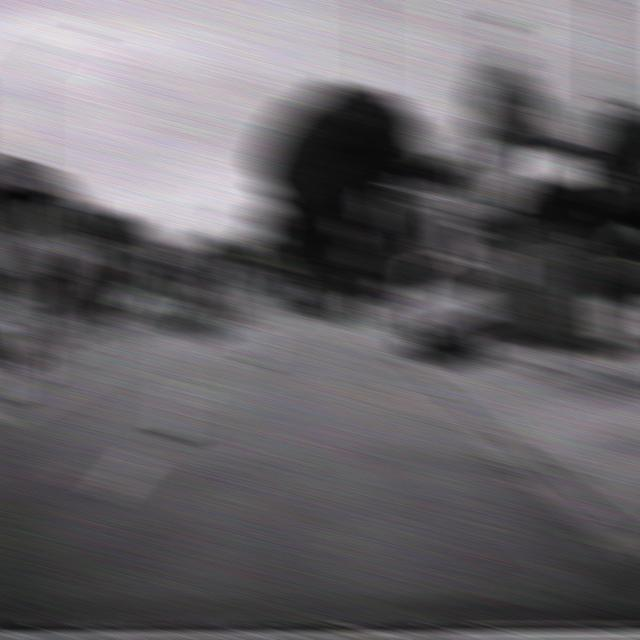pedestrianCrossing: (335, 217, 363, 246)
